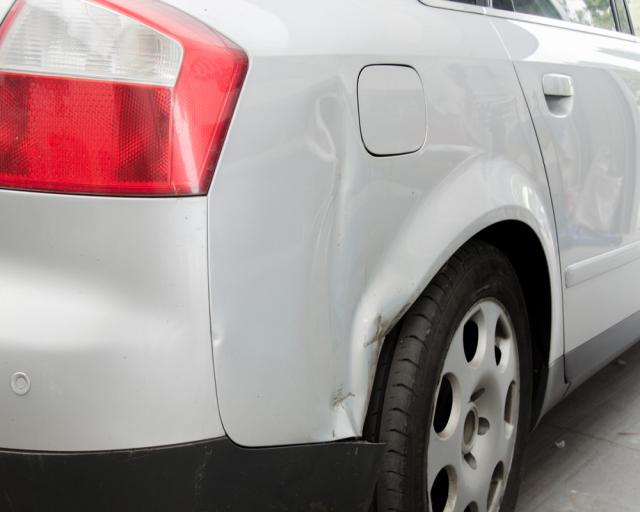dent: (301, 81, 373, 440), (564, 77, 634, 234)
